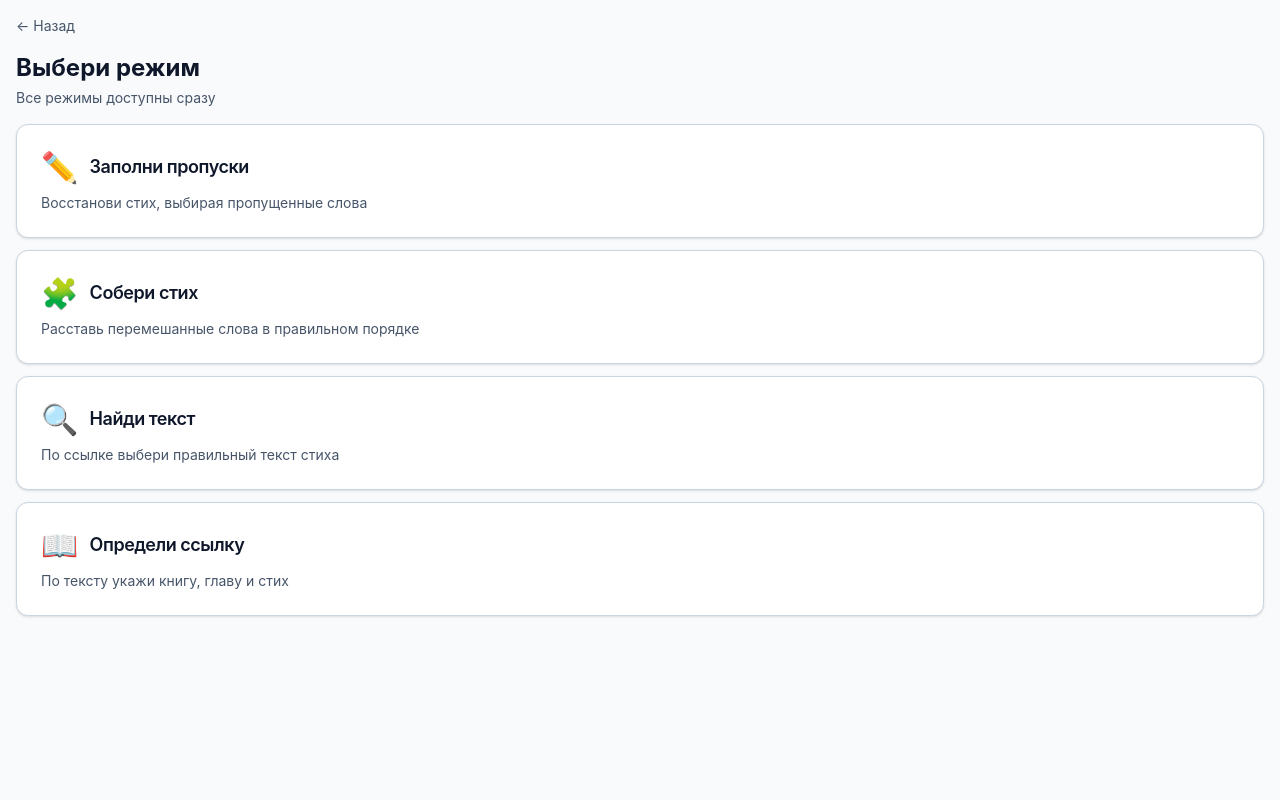
Test case: ModeSelectionPage (integration) › opens the add verse form with a hint when there are no unmastered verses
Expected: the heading "Выбери режим" is shown, [16,53,200,82]
Click the text "Заполни пропуски" at (145, 167), box [41,149,249,185]
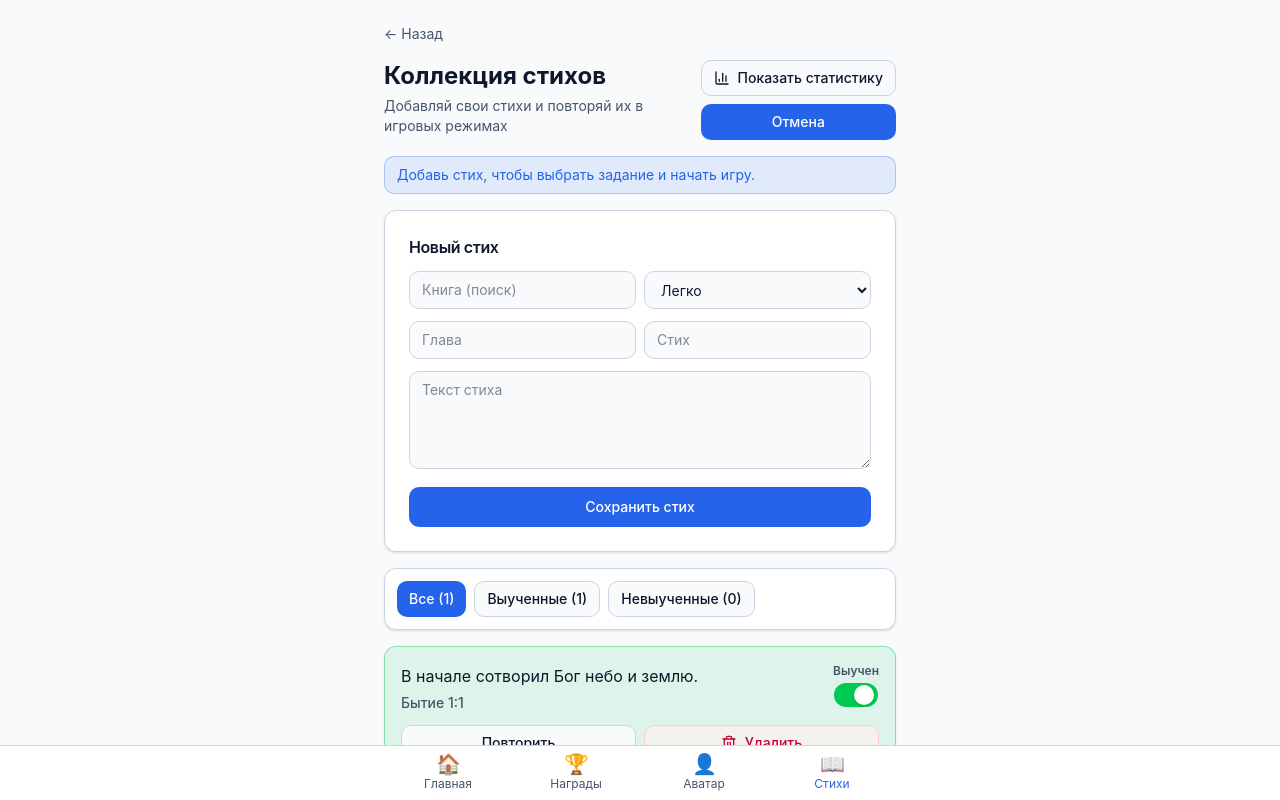
Result: the heading "Коллекция стихов" is shown at [384,61,606,90]
Result: the text "Добавь стих, чтобы выбрать задание и начать игру." is shown at [384,156,896,194]
Result: the text "Новый стих" is shown at [409,237,498,257]
